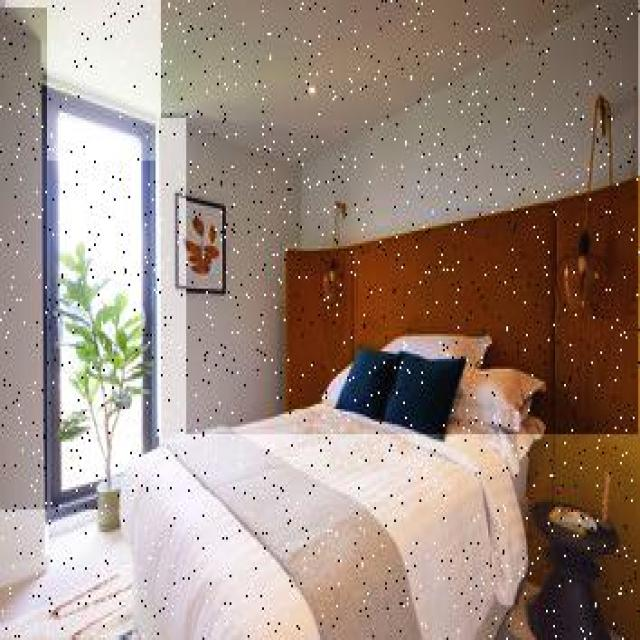Wall: (161, 2, 640, 434), (7, 1, 589, 161), (0, 9, 47, 589), (0, 512, 137, 637), (157, 119, 186, 437), (498, 584, 539, 637)
